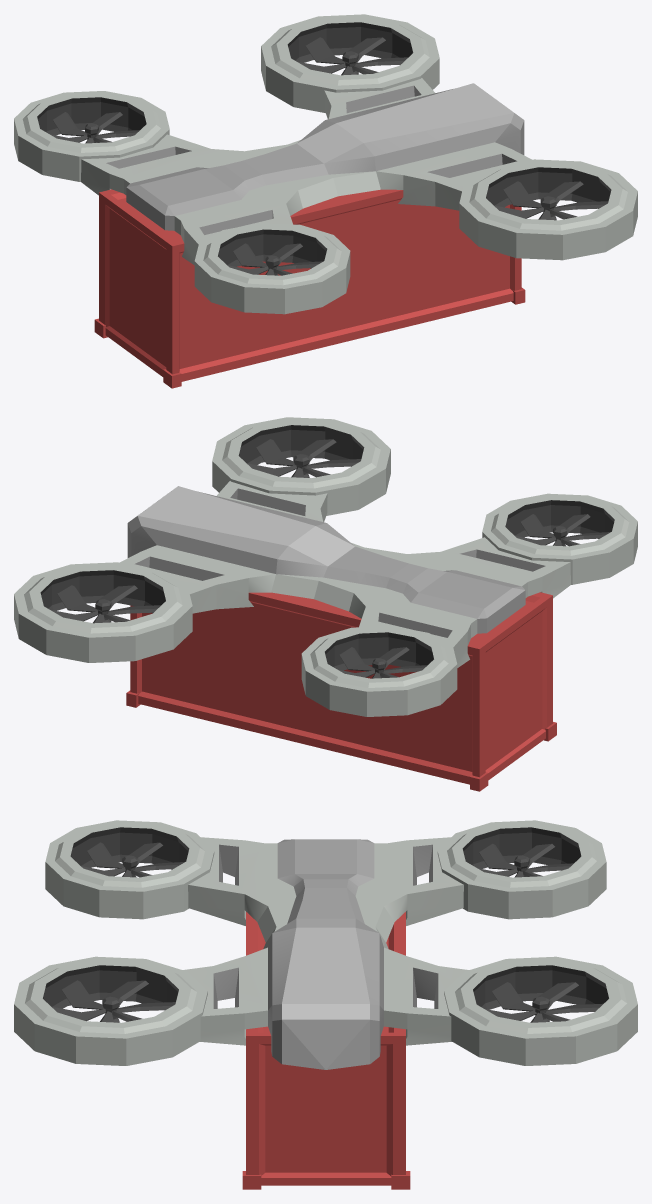
The model's file is Copter.fbx.
3 views of the same model, one above another, from view 1: azimuth 30°, elevation 25°; view 2: azimuth 150°, elevation 25°; view 3: azimuth 270°, elevation 25° (orthographic). The views are drawn at different scales.
Parts seen in each view (by area): view 1: Copter, Copter_Container, Copter_Propeller_FR, Copter_Propeller_FL, Copter_Propeller_BR, Copter_Propeller_BL; view 2: Copter, Copter_Container, Copter_Propeller_FR, Copter_Propeller_FL, Copter_Propeller_BR, Copter_Propeller_BL; view 3: Copter, Copter_Container, Copter_Propeller_FR, Copter_Propeller_FL, Copter_Propeller_BR, Copter_Propeller_BL.
Part boxes in pixels (bbox=[...]): Copter: bbox=[14, 14, 637, 314]; Copter_Container: bbox=[94, 189, 525, 388]; Copter_Propeller_FR: bbox=[494, 181, 608, 219]; Copter_Propeller_FL: bbox=[297, 37, 408, 75]; Copter_Propeller_BR: bbox=[227, 243, 323, 275]; Copter_Propeller_BL: bbox=[50, 112, 139, 143]; Copter: bbox=[14, 417, 637, 716]; Copter_Container: bbox=[126, 592, 556, 791]; Copter_Propeller_FR: bbox=[247, 439, 361, 477]; Copter_Propeller_FL: bbox=[51, 585, 160, 623]; Copter_Propeller_BR: bbox=[515, 514, 610, 546]; Copter_Propeller_BL: bbox=[338, 647, 427, 678]; Copter: bbox=[14, 820, 637, 1069]; Copter_Container: bbox=[242, 912, 410, 1189]; Copter_Propeller_FR: bbox=[51, 980, 175, 1022]; Copter_Propeller_FL: bbox=[485, 982, 603, 1022]; Copter_Propeller_BR: bbox=[81, 842, 184, 877]; Copter_Propeller_BL: bbox=[477, 843, 573, 877].
Bounding box in the file's own units: 466 × 188 × 562.
